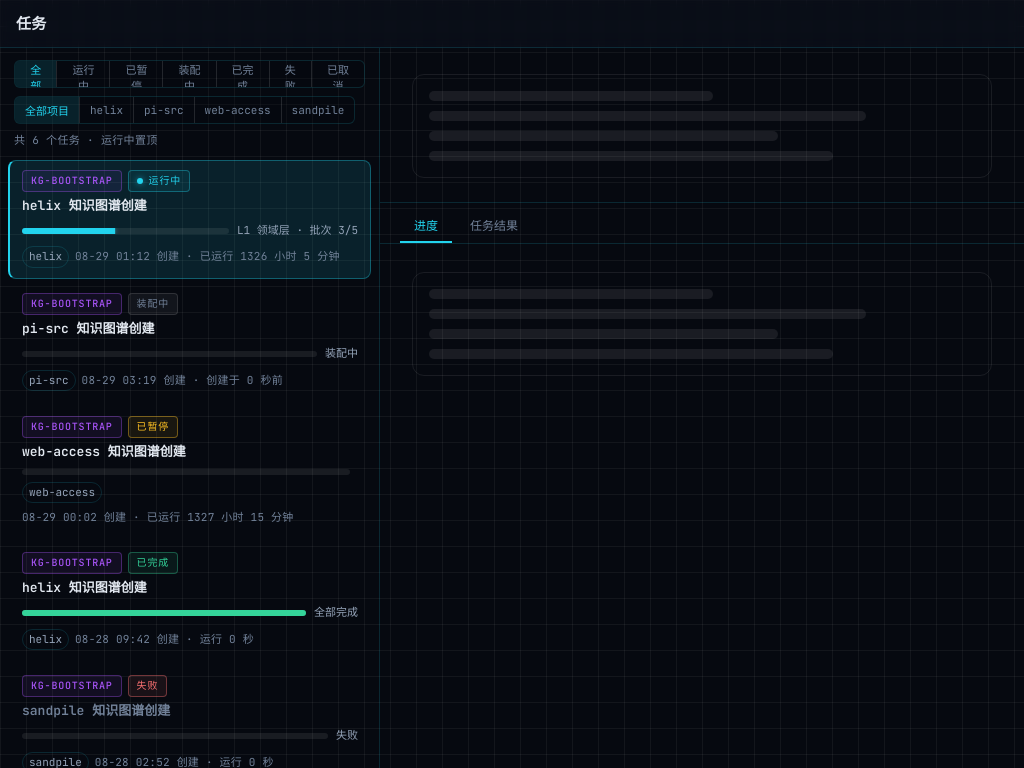
P-2 TasksPage：生命周期 + 删除门控（F3.5/F3.6） › paused 详情：继续+取消；继续命令回执 → 运行中
Click the 3rd button with class "tk-row".
click(190, 472)  # box [8,406,371,538]
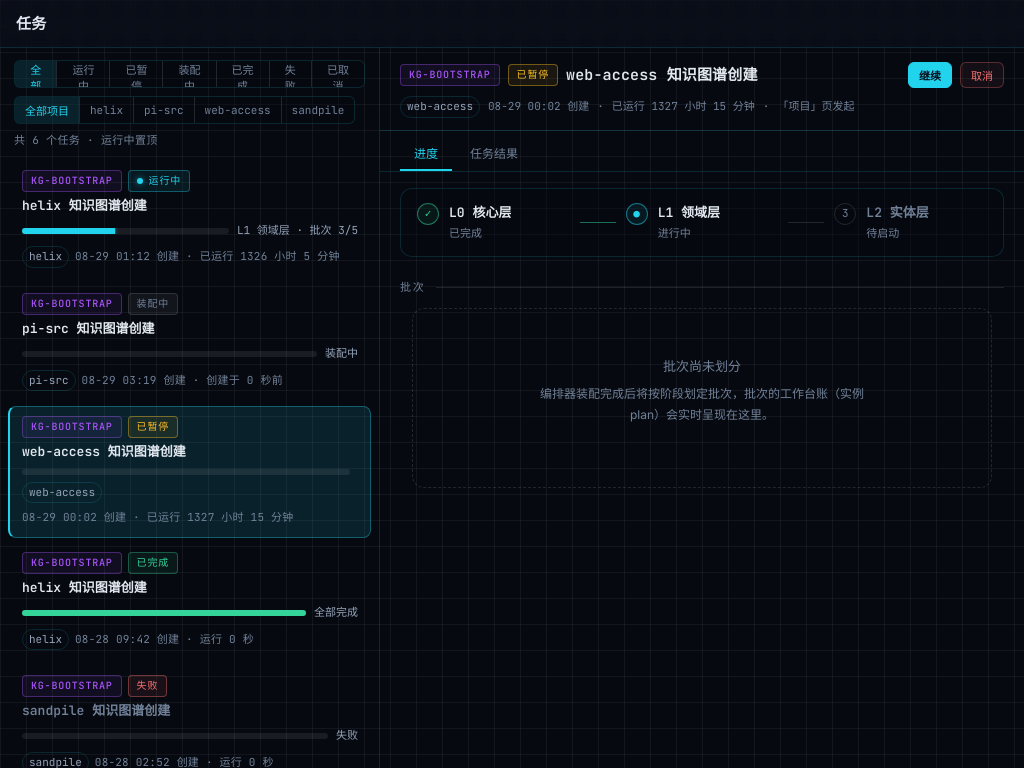
Click the button "继续".
click(930, 75)  # box [908,62,952,88]
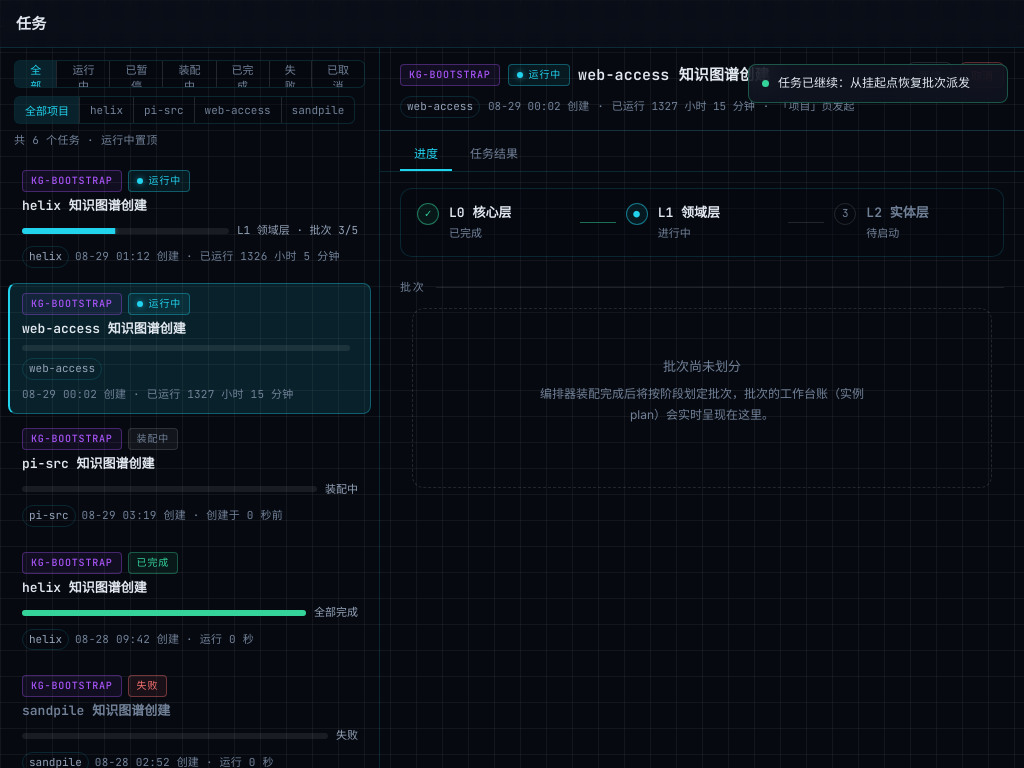
Expected: the element showing "运行中" is shown, [508,64,570,86]
